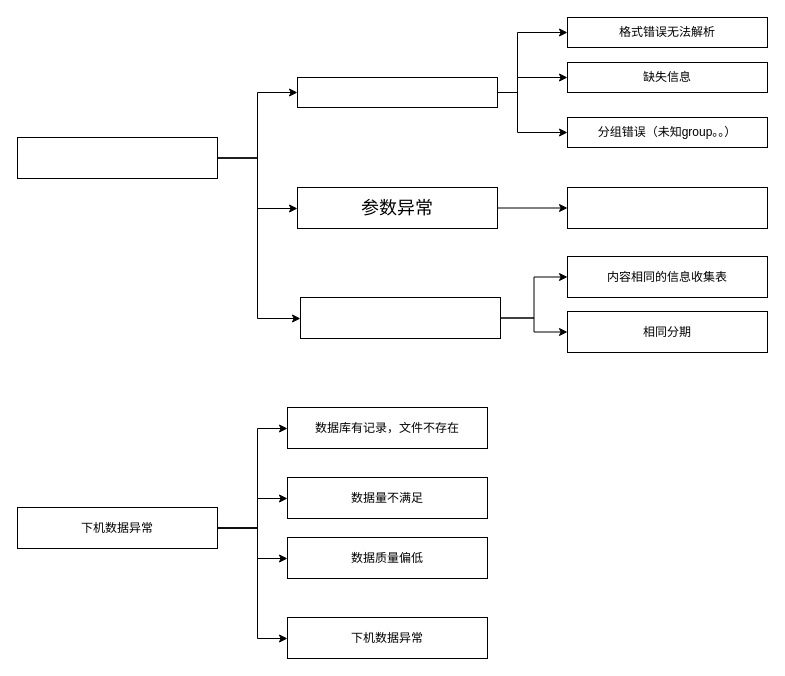
This 785x676 diagram has some shape labels left out. Here are the shapes that lost their labels. From the top down, the centre of each, then its label:
At pixel 397 92: "解析异常".
At pixel 117 157: "信息收集表异常".
At pixel 667 207: "参考基因组id， kegg_abbr, ppi 不在数据库内".
At pixel 400 317: "信息收集表重复提交".
